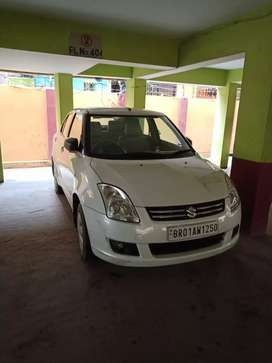BR01AW1250: (168, 219, 218, 240)
